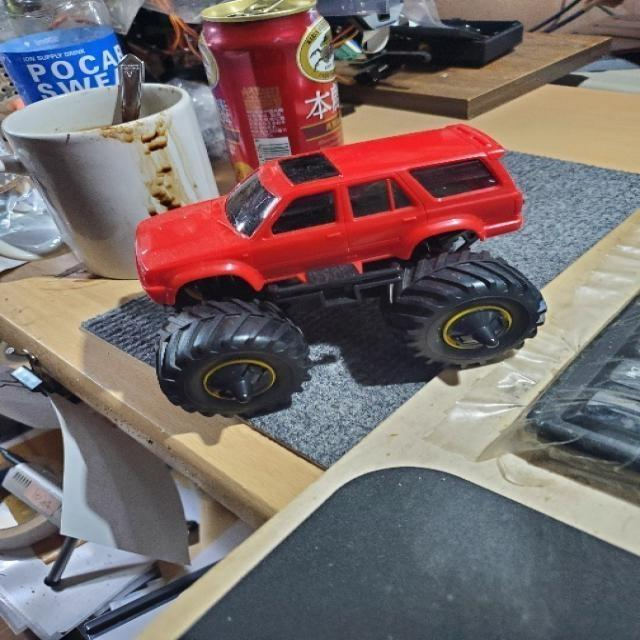Car: (80, 106, 590, 424)
